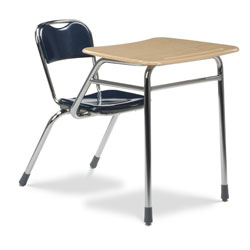desk_038.jpg: (15, 12, 241, 229)
